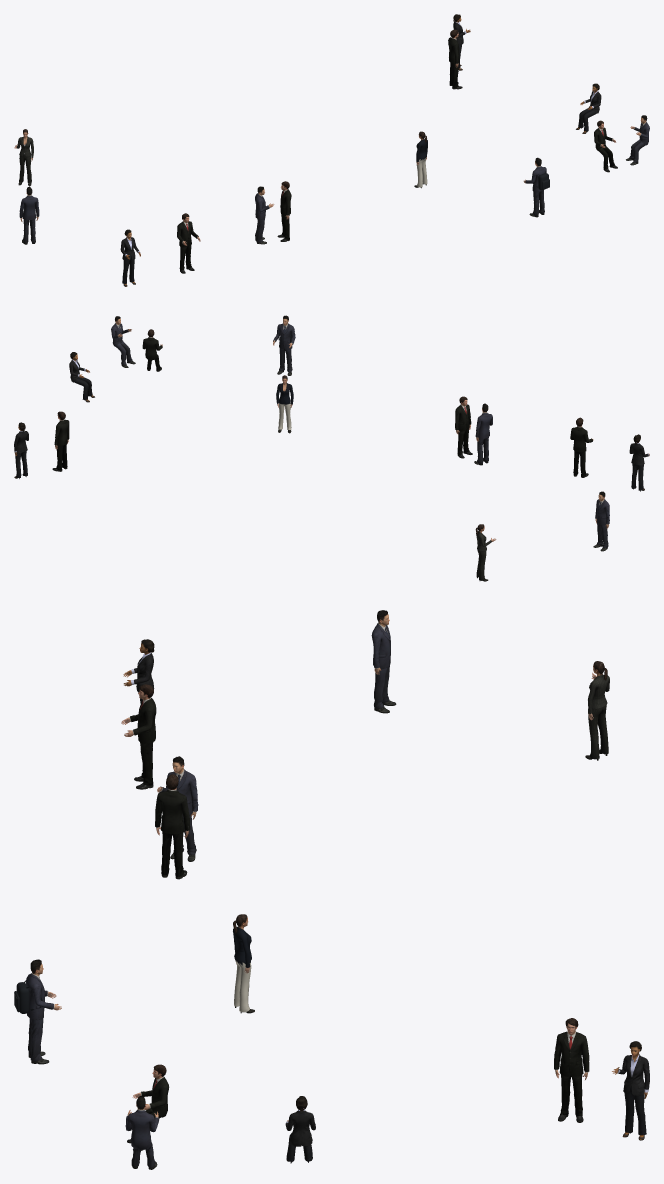
The model's file is projection-grand-visitors-v1.glb.
The picture shows the model from 3 angles, top to bottom: view 1: azimuth 30°, elevation 25°; view 2: azimuth 150°, elevation 25°; view 3: azimuth 270°, elevation 25°; orthographic projection. The views are drawn at different scales.
Visible parts, largest first — view 1: Projection visitor | Business_Male_02 | idle part 0, Projection visitor | Business_Male_01 | operator part 0, Projection visitor | Business_Female_01 | operator part 0, Projection visitor | Business_Female_04 | talk part 0, Projection visitor | Business_Male_02 | operator part 0, Projection visitor | Business_Male_01 | projection-seated pa, Projection visitor | Business_Male_01 | idle part 0, Projection visitor | Business_Male_01 | idle part 0.001, Projection visitor | Business_Female_01 | projection-seated , Projection visitor | Business_Male_02 | talk part 0, Projection visitor | Business_Female_04 | idle part 0, Projection visitor | Business_Male_02 | projection-seated pa; view 2: Projection visitor | Business_Male_02 | operator part 0, Projection visitor | Business_Male_01 | idle part 0, Projection visitor | Business_Male_01 | operator part 0, Projection visitor | Business_Male_02 | talk part 0, Projection visitor | Business_Male_01 | idle part 0.001, Projection visitor | Business_Female_04 | idle part 0, Projection visitor | Business_Male_02 | idle part 0, Projection visitor | Business_Female_01 | operator part 0, Projection visitor | Business_Female_01 | talk part 0, Projection visitor | Business_Male_02 | projection-seated pa, Projection visitor | Business_Female_01 | projection-seated , Projection visitor | Business_Female_04 | talk part 0 (+1 smaller); view 3: Projection visitor | Business_Male_01 | idle part 0.001, Projection visitor | Business_Male_01 | idle part 0, Projection visitor | Business_Female_01 | talk part 0, Projection visitor | Business_Male_01 | operator part 0, Projection visitor | Business_Male_02 | operator part 0, Projection visitor | Business_Female_04 | talk part 0, Projection visitor | Business_Male_02 | idle part 0, Projection visitor | Business_Female_04 | idle part 0, Projection visitor | Business_Male_02 | projection-seated pa, Projection visitor | Business_Female_01 | projection-seated , Projection visitor | Business_Male_02 | talk part 0, Projection visitor | Business_Male_01 | projection-seated pa (+1 smaller).
Boxes of the visible parts, x1,y1,x2,y2 form: Projection visitor | Business_Male_02 | idle part 0: (19, 186, 39, 244); Projection visitor | Business_Male_01 | operator part 0: (177, 213, 200, 273); Projection visitor | Business_Female_01 | operator part 0: (120, 229, 140, 286); Projection visitor | Business_Female_04 | talk part 0: (14, 129, 33, 186); Projection visitor | Business_Male_02 | operator part 0: (523, 157, 546, 217); Projection visitor | Business_Male_01 | projection-seated pa: (594, 120, 617, 172); Projection visitor | Business_Male_01 | idle part 0: (277, 181, 291, 241); Projection visitor | Business_Male_01 | idle part 0.001: (448, 29, 462, 89); Projection visitor | Business_Female_01 | projection-seated : (576, 83, 601, 133); Projection visitor | Business_Male_02 | talk part 0: (255, 186, 274, 244); Projection visitor | Business_Female_04 | idle part 0: (414, 131, 427, 188); Projection visitor | Business_Male_02 | projection-seated pa: (626, 115, 649, 165); Projection visitor | Business_Male_02 | operator part 0: (273, 315, 295, 375); Projection visitor | Business_Male_01 | idle part 0: (455, 396, 472, 458); Projection visitor | Business_Male_01 | operator part 0: (570, 417, 593, 477); Projection visitor | Business_Male_02 | talk part 0: (474, 403, 492, 465); Projection visitor | Business_Male_01 | idle part 0.001: (52, 411, 69, 471); Projection visitor | Business_Female_04 | idle part 0: (276, 375, 293, 433); Projection visitor | Business_Male_02 | idle part 0: (593, 491, 609, 551); Projection visitor | Business_Female_01 | operator part 0: (629, 434, 649, 491); Projection visitor | Business_Female_01 | talk part 0: (14, 422, 28, 478); Projection visitor | Business_Male_02 | projection-seated pa: (111, 316, 135, 367); Projection visitor | Business_Female_01 | projection-seated : (69, 352, 94, 402); Projection visitor | Business_Female_04 | talk part 0: (475, 524, 496, 581); Projection visitor | Business_Male_01 | idle part 0.001: (554, 1018, 589, 1122); Projection visitor | Business_Male_01 | idle part 0: (155, 774, 190, 879); Projection visitor | Business_Female_01 | talk part 0: (612, 1041, 649, 1140); Projection visitor | Business_Male_01 | operator part 0: (121, 684, 156, 789); Projection visitor | Business_Male_02 | operator part 0: (26, 959, 61, 1064); Projection visitor | Business_Female_04 | talk part 0: (585, 661, 609, 760); Projection visitor | Business_Male_02 | idle part 0: (371, 610, 396, 713); Projection visitor | Business_Female_04 | idle part 0: (233, 914, 254, 1013); Projection visitor | Business_Male_02 | projection-seated pa: (125, 1096, 159, 1169); Projection visitor | Business_Female_01 | projection-seated : (285, 1096, 315, 1163); Projection visitor | Business_Male_02 | talk part 0: (157, 756, 198, 861); Projection visitor | Business_Male_01 | projection-seated pa: (127, 1064, 169, 1150).
Size of the model in its own units: 18.16 by 1.78 by 10.19.
16 materials, 12 textured.
